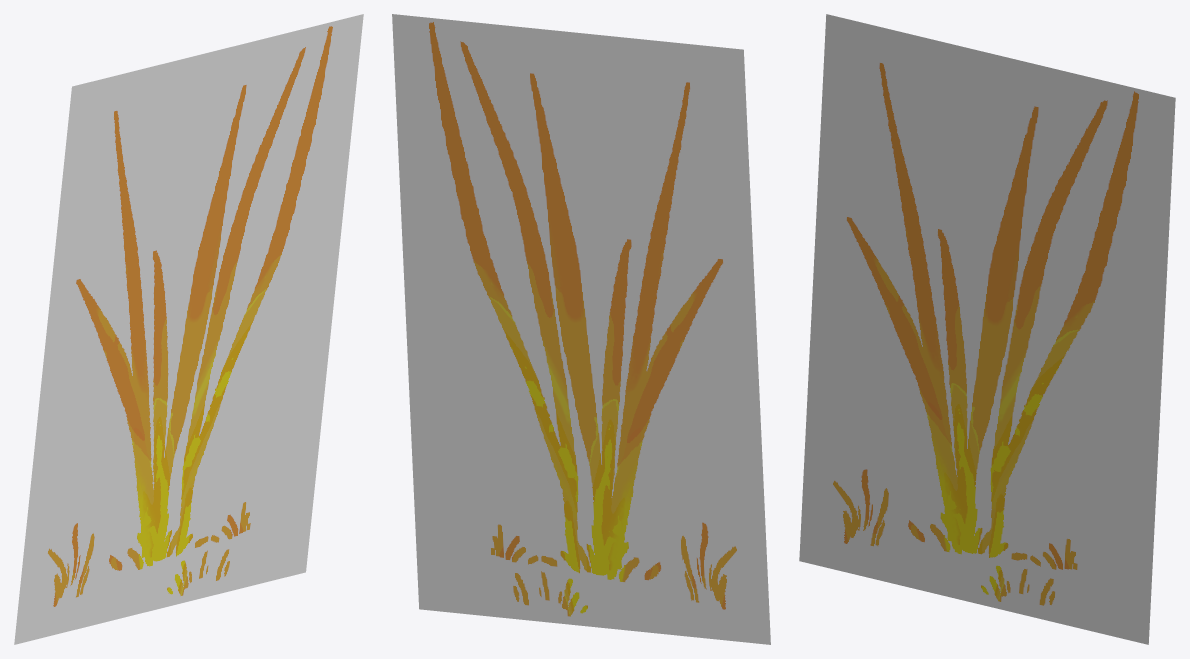
The model's file is Tall Grass.fbx.
3 renders of one model, left to right at view 1: azimuth 30°, elevation 25°; view 2: azimuth 150°, elevation 25°; view 3: azimuth 330°, elevation 25°, orthographic. The views are drawn at different scales.
Visible parts, largest first — view 1: Tall Grass.001; view 2: Tall Grass.001; view 3: Tall Grass.001.
Part boxes in pixels (x1,y1,x2,y2): Tall Grass.001: [14, 14, 363, 644]; Tall Grass.001: [392, 14, 770, 644]; Tall Grass.001: [799, 14, 1175, 644].
Size of the model in its own units: 0.4619 by 2.31 by 3.58.
1 material, 1 textured.
